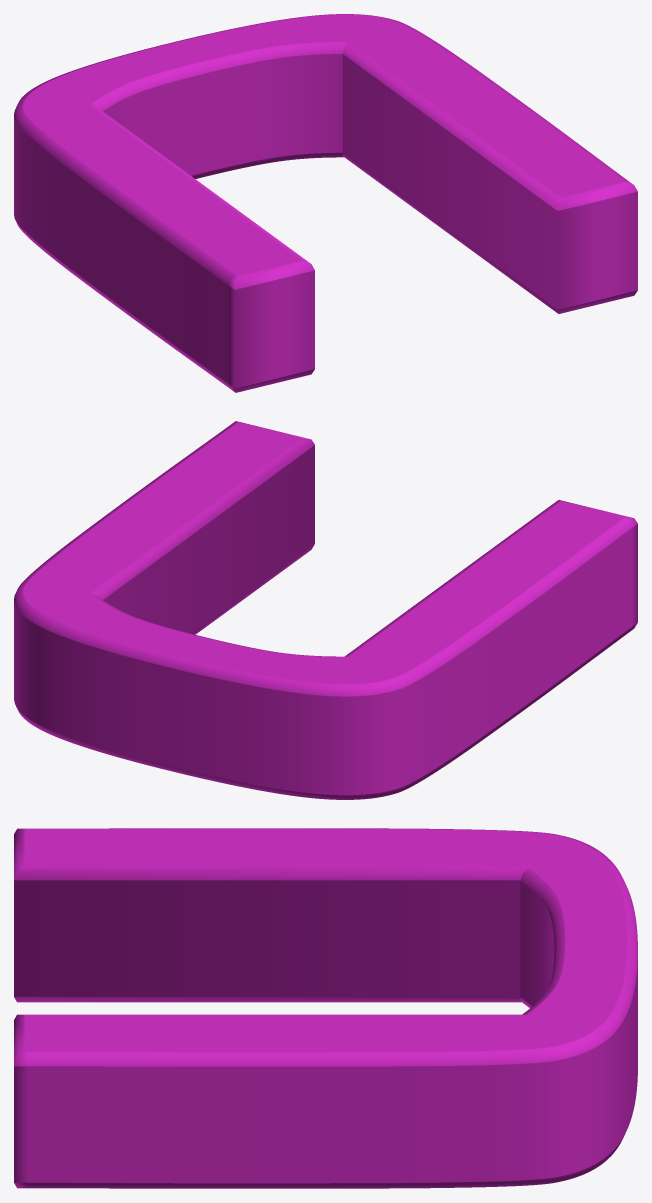
The model's file is Letter_u_CoolFont.fbx.
The picture shows the model from 3 angles, top to bottom: view 1: azimuth 30°, elevation 25°; view 2: azimuth 150°, elevation 25°; view 3: azimuth 270°, elevation 25°; orthographic projection. The views are drawn at different scales.
Visible parts, largest first — view 1: Letter_u; view 2: Letter_u; view 3: Letter_u.
Boxes of the visible parts, box(x1,y1,x2,y2) form: Letter_u: box(14, 14, 637, 392); Letter_u: box(14, 421, 637, 799); Letter_u: box(14, 828, 637, 1188).
Size of the model in its own units: 0.5152 by 0.14 by 0.5828.
